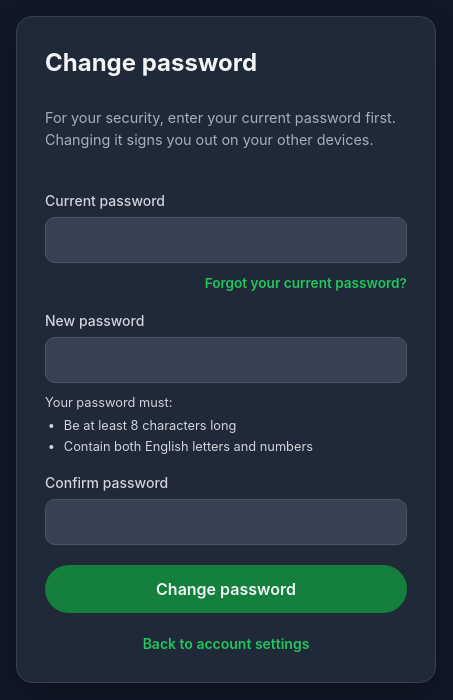
Test: ChangePasswordPage › sends the current and new password, and keeps this device signed in
Step 1. Type "OldPass!234" into the password field labelled "Current password" → coordinates (226, 240), box [45,217,407,263]
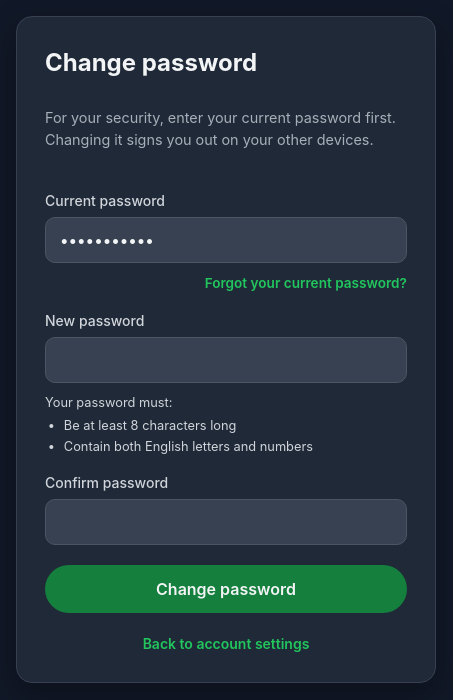
Step 2. Type "BrandNew!567" into the password field labelled "New password" → coordinates (226, 360), box [45,337,407,383]
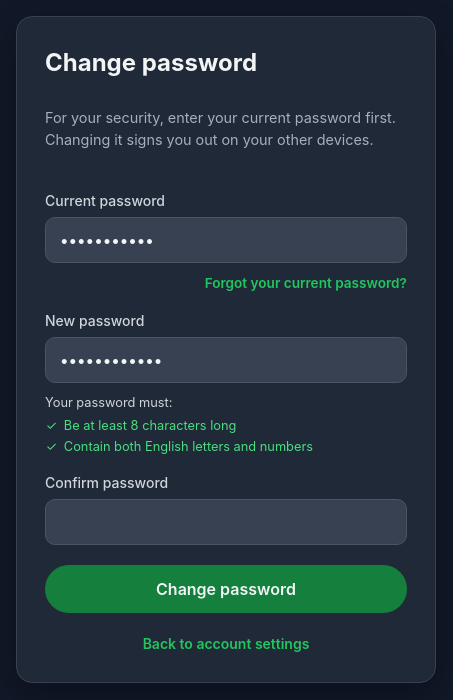
Step 3. Type "BrandNew!567" into the password field labelled "Confirm password" → coordinates (226, 522), box [45,499,407,545]
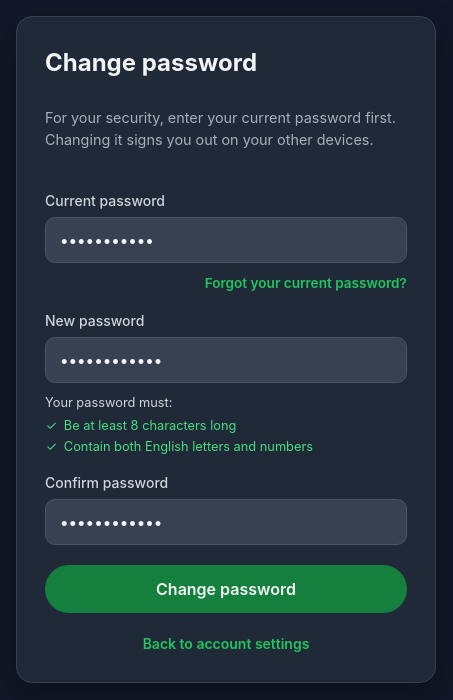
Step 4. Click the button "Change password" → coordinates (226, 589), box [45,565,407,613]
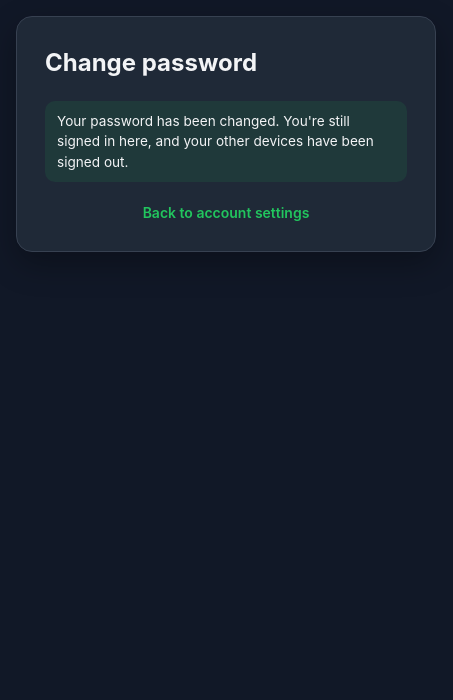
Now the message shows "other devices have been signed out", box [57,113,374,170]
